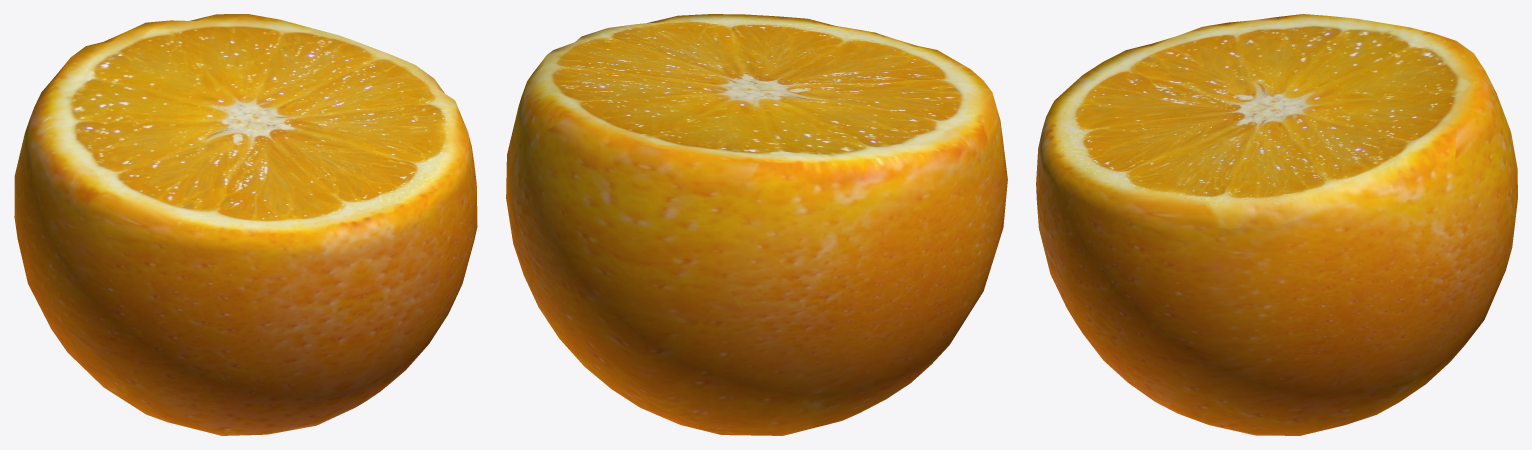
The model's file is orange.glb.
The picture shows the model from 3 angles, left to right: view 1: azimuth 30°, elevation 25°; view 2: azimuth 150°, elevation 25°; view 3: azimuth 270°, elevation 25°; orthographic projection. The views are drawn at different scales.
Visible parts, largest first — view 1: Object_2; view 2: Object_2; view 3: Object_2.
Boxes of the visible parts, x1,y1,x2,y2 form: Object_2: (14, 14, 477, 435); Object_2: (506, 14, 1007, 435); Object_2: (1036, 14, 1517, 435).
Size of the model in its own units: 27.8 by 21.09 by 27.77.
Materials: 1 (1 with a texture image).
